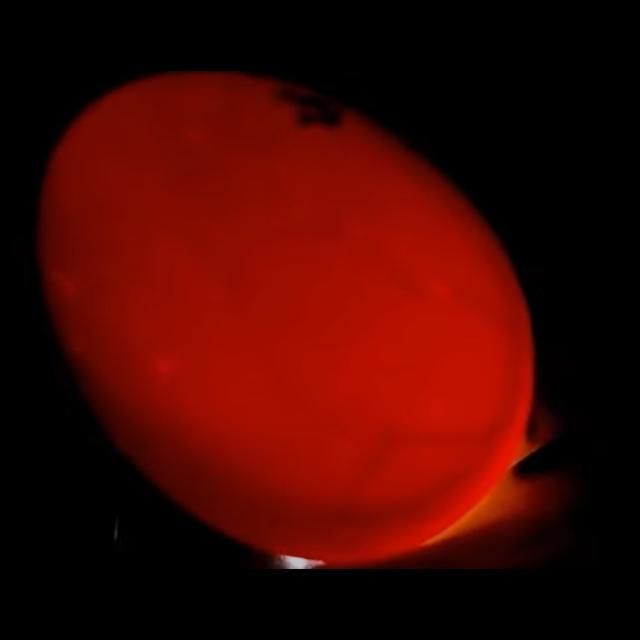B - Fair: (33, 71, 541, 568)
